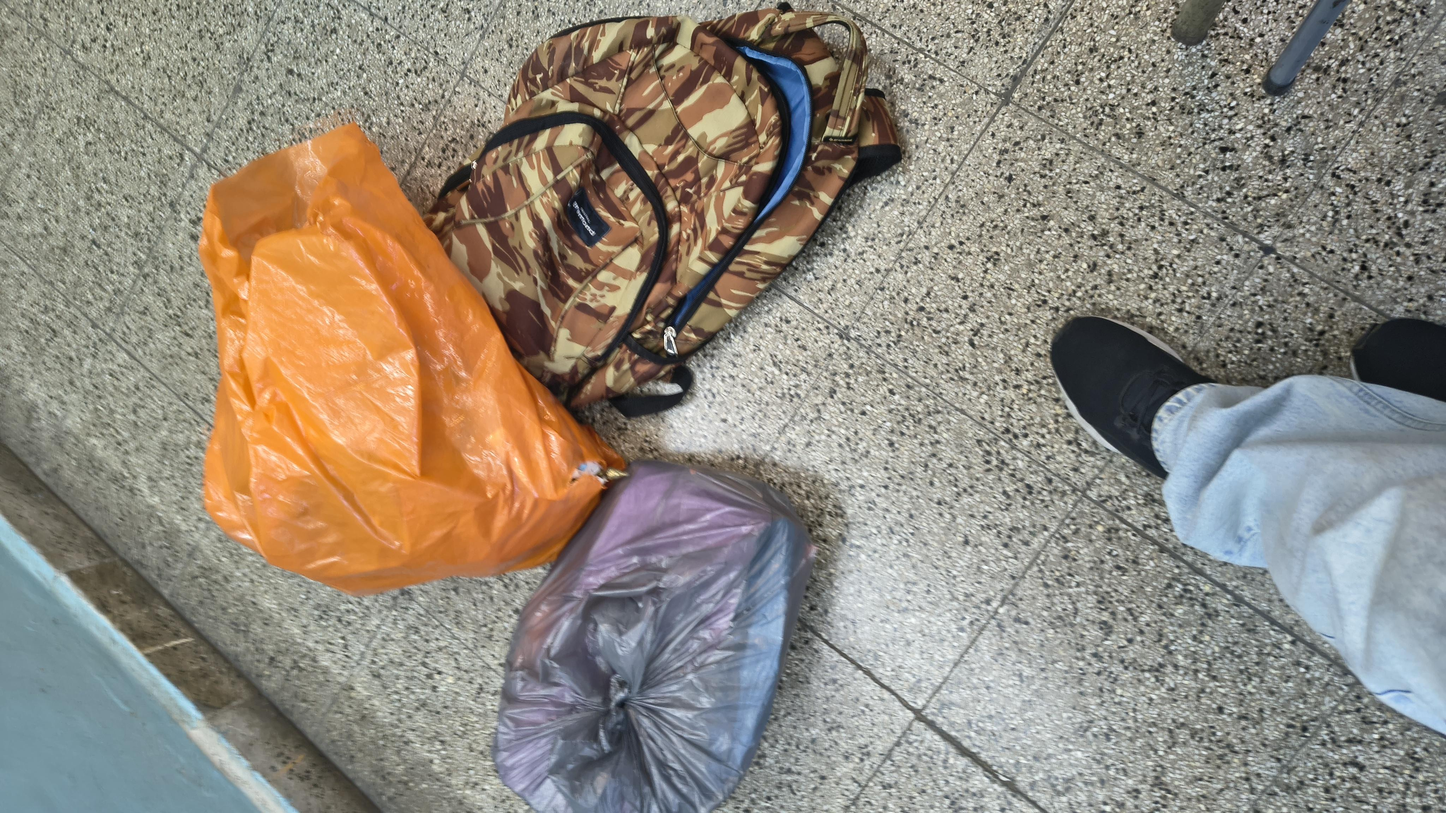Garbage: (364, 89, 1287, 353), (0, 252, 653, 476)
